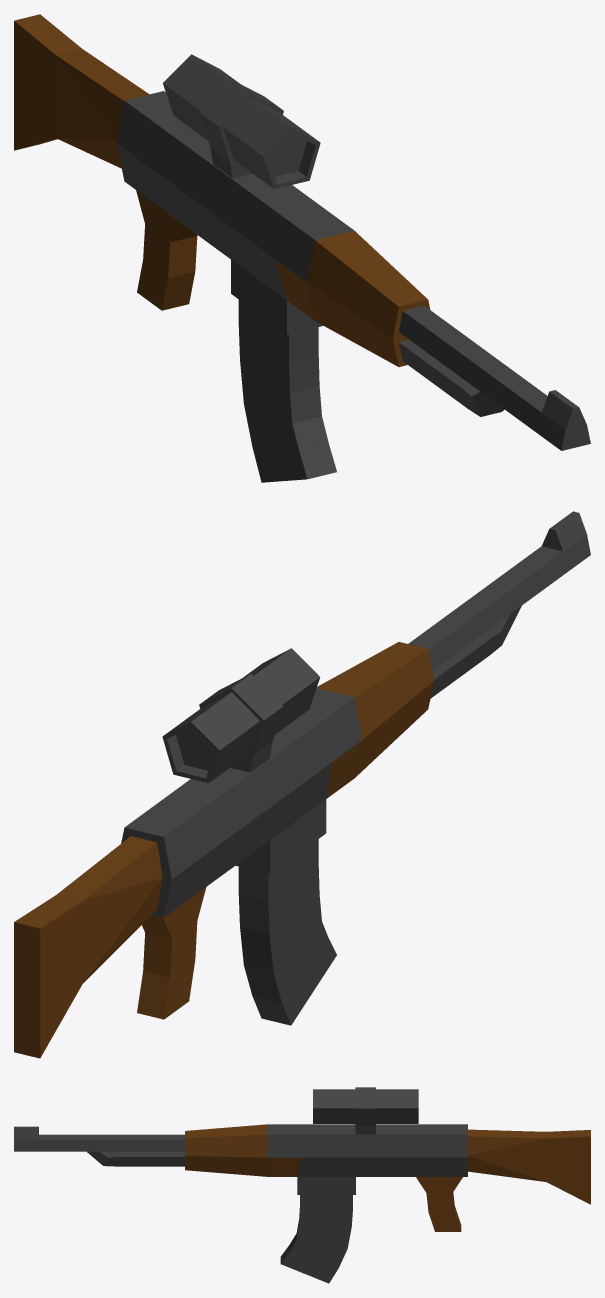
File: marksman rifle.FBX
3 views of the same model, one above another, from view 1: azimuth 30°, elevation 25°; view 2: azimuth 150°, elevation 25°; view 3: azimuth 270°, elevation 25° (orthographic). The views are drawn at different scales.
Parts seen in each view (by area): view 1: Box002; view 2: Box002; view 3: Box002.
Boxes of the visible parts, x1,y1,x2,y2 form: Box002: [14, 14, 590, 482]; Box002: [14, 511, 590, 1058]; Box002: [14, 1087, 590, 1283].
Bounding box in the file's own units: 16.57 × 89.36 × 243.
